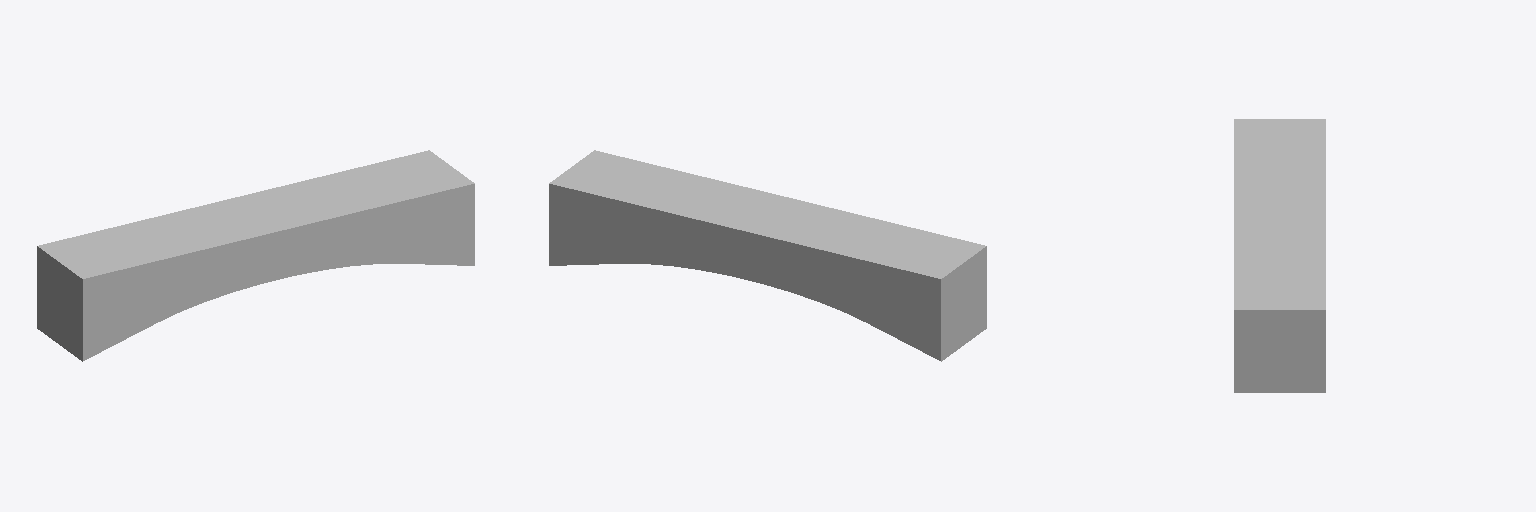
The model's file is topThingOffice.obj.
The picture shows the model from 3 angles: view 1: azimuth 30°, elevation 25°; view 2: azimuth 150°, elevation 25°; view 3: azimuth 270°, elevation 25°; orthographic projection.
Visible parts, largest first — view 1: Cube_Cube.006; view 2: Cube_Cube.006; view 3: Cube_Cube.006.
Boxes of the visible parts, x1=… form: Cube_Cube.006: x1=37, y1=150, x2=474, y2=361; Cube_Cube.006: x1=549, y1=150, x2=986, y2=361; Cube_Cube.006: x1=1234, y1=119, x2=1325, y2=392.
Size of the model in its own units: 9.95 by 2 by 2.